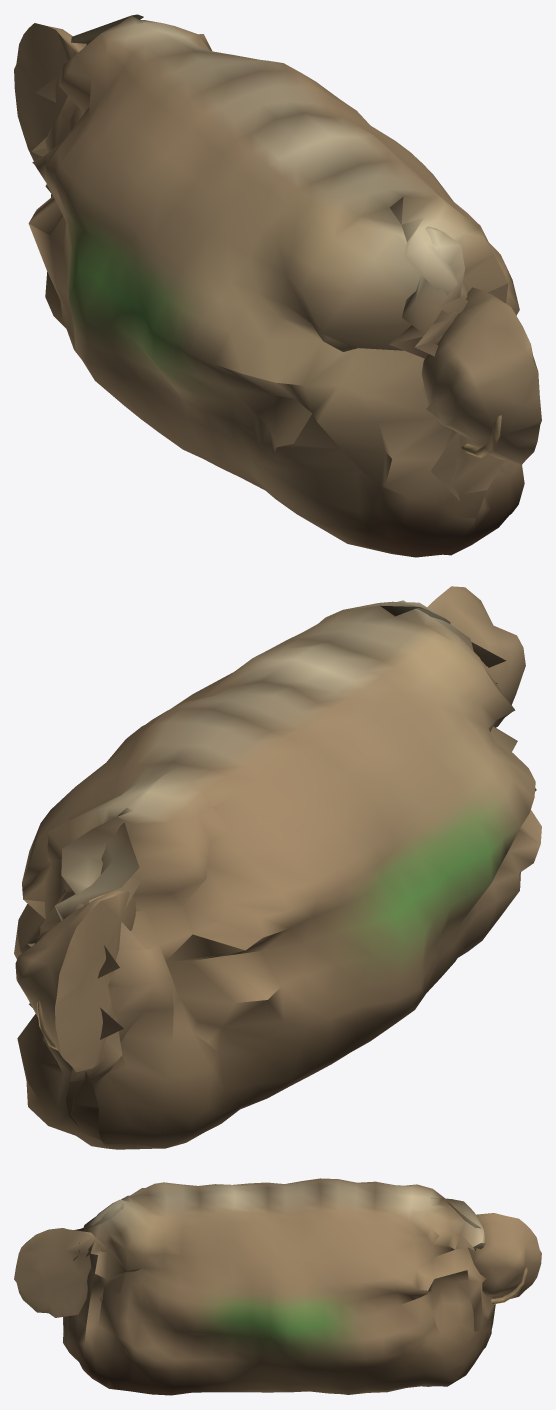
Rendered from canopy_burlap_sack.glb.
The picture shows the model from 3 angles, top to bottom: view 1: azimuth 30°, elevation 25°; view 2: azimuth 150°, elevation 25°; view 3: azimuth 270°, elevation 25°; orthographic projection. The views are drawn at different scales.
Parts seen in each view (by area): view 1: canopy_burlap_sack; view 2: canopy_burlap_sack; view 3: canopy_burlap_sack.
Part boxes in pixels (x1,y1,x2,y2): canopy_burlap_sack: (14, 14, 541, 557); canopy_burlap_sack: (14, 586, 541, 1149); canopy_burlap_sack: (14, 1178, 541, 1395).
Bounding box in the file's own units: 6.14 × 5.5 × 13.94.
